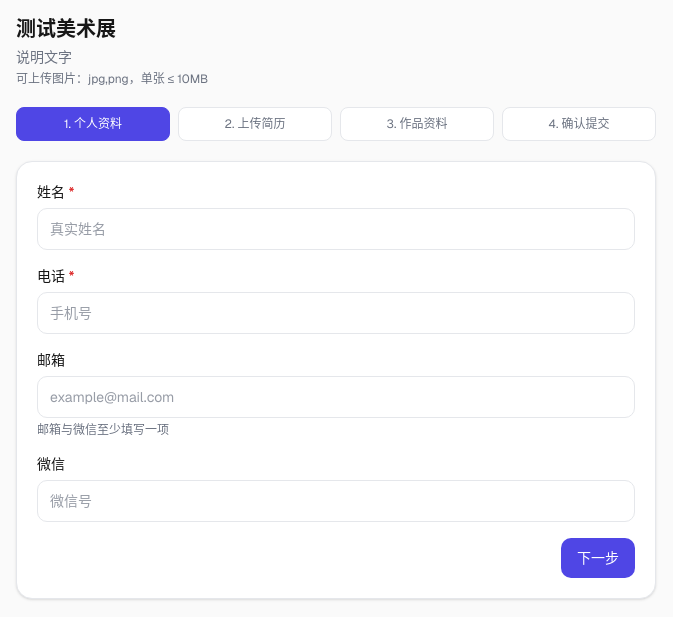
Test case: SubmissionWizard › 可进入第②步上传简历
Expected: the heading "测试美术展" is shown, [16,16,116,42]
Click the button "下一步" at {"x": 598, "y": 558}, box [561,538,635,578]
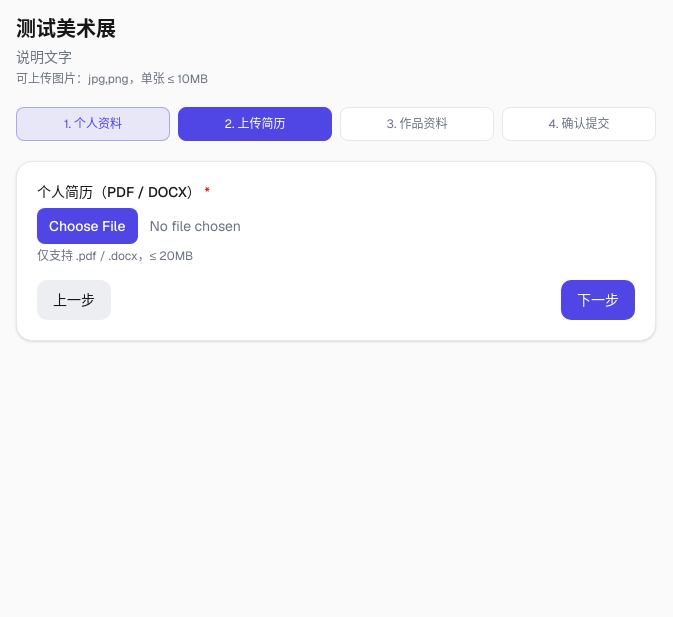
Result: the text "个人简历（PDF / DOCX） *" is shown at [37,183,210,201]
